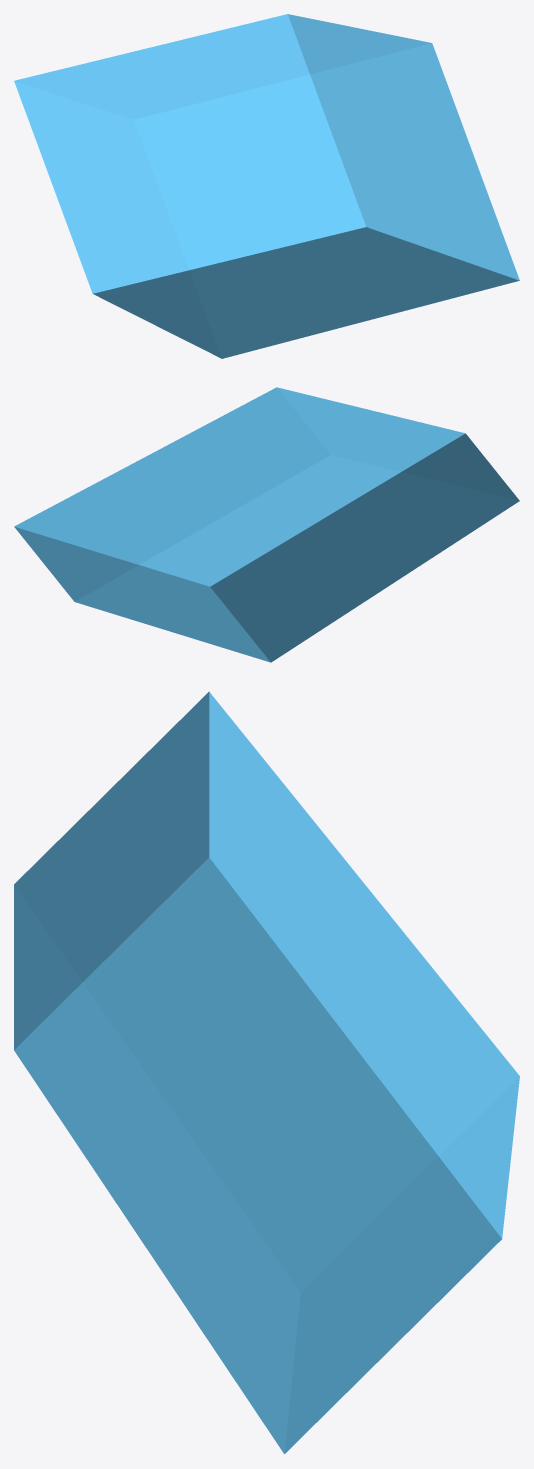
Rendered from Event_421278790_HBrechit_25.fbx.
3 views of the same model, one above another, from view 1: azimuth 30°, elevation 25°; view 2: azimuth 150°, elevation 25°; view 3: azimuth 270°, elevation 25° (orthographic). The views are drawn at different scales.
Parts seen in each view (by area): view 1: Model; view 2: Model; view 3: Model.
Boxes of the visible parts, bbox=[...] form: Model: bbox=[14, 14, 519, 358]; Model: bbox=[14, 387, 519, 662]; Model: bbox=[14, 691, 519, 1453].
Size of the model in its own units: 1.07 by 0.6951 by 0.7035.
